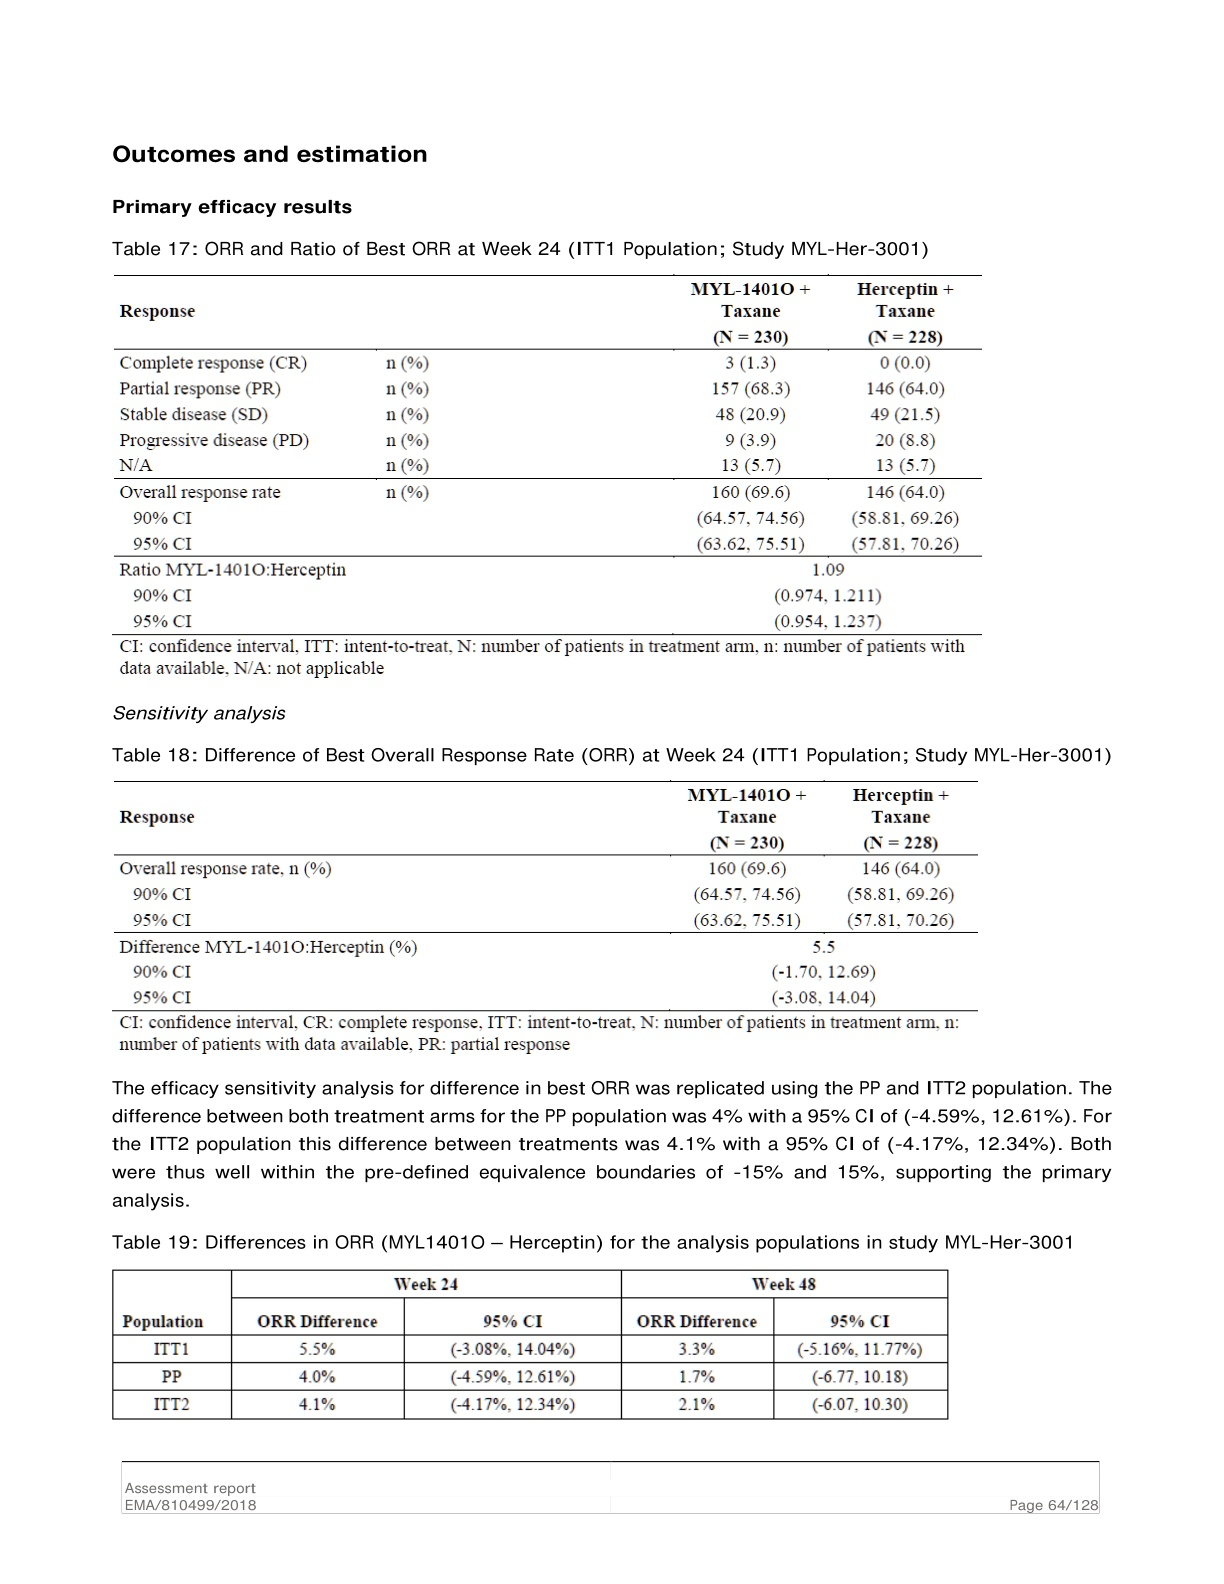merged_cells: (111, 1268, 950, 1421)
partial_lined_merged_cells: (111, 274, 984, 636), (112, 780, 978, 1012)
